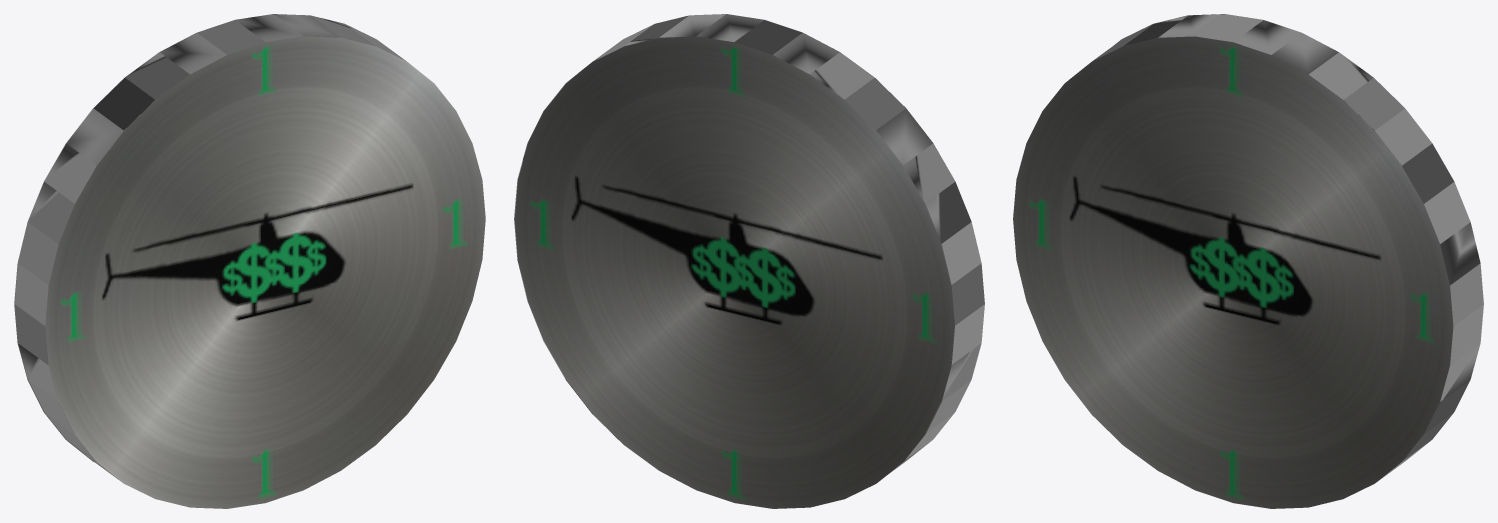
File: silver-1money.fbx
3 renders of one model, left to right at view 1: azimuth 30°, elevation 25°; view 2: azimuth 150°, elevation 25°; view 3: azimuth 330°, elevation 25°, orthographic.
Visible parts, largest first — view 1: Oil_Tank_3, Oil_Tank, Oil_Tank_2; view 2: Oil_Tank_2, Oil_Tank; view 3: Oil_Tank_3, Oil_Tank.
Boxes of the visible parts, x1,y1,x2,y2 form: Oil_Tank_3: (45,36,485,508); Oil_Tank: (15,14,405,480); Oil_Tank_2: (14,33,334,462); Oil_Tank_2: (514,36,954,508); Oil_Tank: (514,14,984,508); Oil_Tank_3: (1013,36,1453,508); Oil_Tank: (1093,14,1483,482).
Size of the model in its own units: 200 by 200 by 24.06.
Materials: 2 (1 with a texture image).
